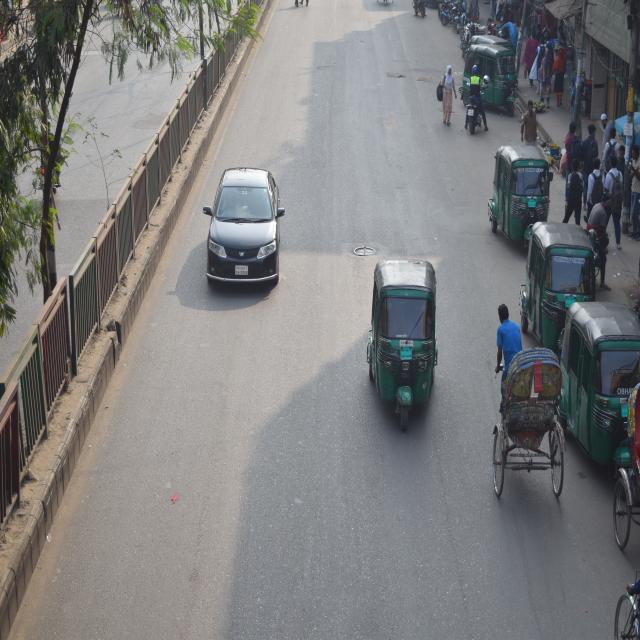car: (192, 164, 290, 304)
motorbike: (578, 209, 615, 273), (456, 77, 488, 144), (435, 0, 473, 29)
